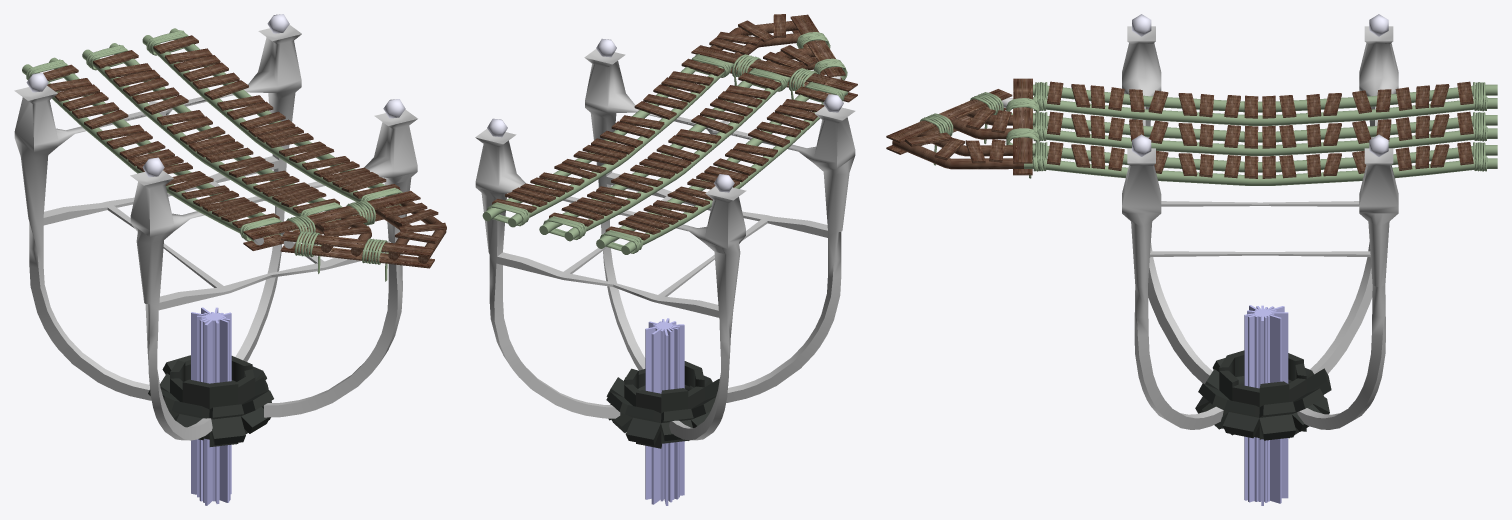
The model's file is 3_bridge_left.fbx.
3 views of the same model, side by side, from view 1: azimuth 30°, elevation 25°; view 2: azimuth 150°, elevation 25°; view 3: azimuth 270°, elevation 25° (orthographic). The views are drawn at different scales.
Parts seen in each view (by area): view 1: 3_left_base, gravityring, 3_left_LaR, 3_left_LaM, 3_left_LaL, 3_left_verschlag_02, 3_left_verschlag, 3_left_LaR_c, 3_left_verschlag_02_ropes, 3_left_LaM_c, 3_left_ropevertical, 3_left_LaL_ropes (+2 smaller); view 2: 3_left_base, gravityring, 3_left_LaM, 3_left_LaR, 3_left_LaL, 3_left_LaR_c, 3_left_verschlag, 3_left_verschlag_02, 3_left_LaM_c, 3_left_LaR_ropes, 3_left_ropevertical, 3_left_LaM_ropes (+2 smaller); view 3: 3_left_base, gravityring, 3_left_LaL, 3_left_LaM, 3_left_LaR, 3_left_LaR_c, 3_left_verschlag, 3_left_verschlag_02, 3_left_LaM_c, 3_left_verschlag_02_ropes, 3_left_LaR_ropes, 3_left_LaM_ropes (+2 smaller).
Boxes of the visible parts, x1=… form: 3_left_base: x1=14, y1=14, x2=417, y2=440; gravityring: x1=148, y1=307, x2=273, y2=505; 3_left_LaR: x1=142, y1=28, x2=401, y2=211; 3_left_LaM: x1=82, y1=43, x2=340, y2=225; 3_left_LaL: x1=22, y1=57, x2=281, y2=242; 3_left_verschlag_02: x1=280, y1=231, x2=434, y2=268; 3_left_verschlag: x1=243, y1=190, x2=420, y2=250; 3_left_LaR_c: x1=375, y1=201, x2=446, y2=263; 3_left_verschlag_02_ropes: x1=294, y1=231, x2=388, y2=281; 3_left_LaM_c: x1=315, y1=216, x2=371, y2=256; 3_left_ropevertical: x1=286, y1=200, x2=375, y2=232; 3_left_LaL_ropes: x1=26, y1=59, x2=282, y2=241; 3_left_base: x1=475, y1=38, x2=855, y2=440; gravityring: x1=606, y1=318, x2=719, y2=505; 3_left_LaM: x1=539, y1=72, x2=790, y2=241; 3_left_LaR: x1=482, y1=58, x2=733, y2=227; 3_left_LaL: x1=596, y1=86, x2=848, y2=254; 3_left_LaR_c: x1=709, y1=14, x2=800, y2=64; 3_left_verschlag: x1=691, y1=45, x2=857, y2=102; 3_left_verschlag_02: x1=790, y1=14, x2=845, y2=79; 3_left_LaM_c: x1=763, y1=45, x2=817, y2=69; 3_left_LaR_ropes: x1=486, y1=54, x2=730, y2=226; 3_left_ropevertical: x1=732, y1=54, x2=817, y2=99; 3_left_LaM_ropes: x1=543, y1=68, x2=787, y2=239; 3_left_base: x1=1122, y1=14, x2=1398, y2=429; gravityring: x1=1195, y1=305, x2=1331, y2=505; 3_left_LaL: x1=1033, y1=81, x2=1497, y2=125; 3_left_LaM: x1=1032, y1=111, x2=1497, y2=155; 3_left_LaR: x1=1024, y1=142, x2=1497, y2=185; 3_left_LaR_c: x1=892, y1=131, x2=1023, y2=169; 3_left_verschlag: x1=1013, y1=78, x2=1032, y2=175; 3_left_verschlag_02: x1=886, y1=89, x2=1012, y2=154; 3_left_LaM_c: x1=947, y1=107, x2=1012, y2=139; 3_left_verschlag_02_ropes: x1=919, y1=92, x2=1003, y2=165; 3_left_LaR_ropes: x1=1032, y1=142, x2=1487, y2=171; 3_left_LaM_ropes: x1=1032, y1=112, x2=1487, y2=141.
Bounding box in the file's own units: 82 × 117 × 155.
6 materials, 1 textured.
